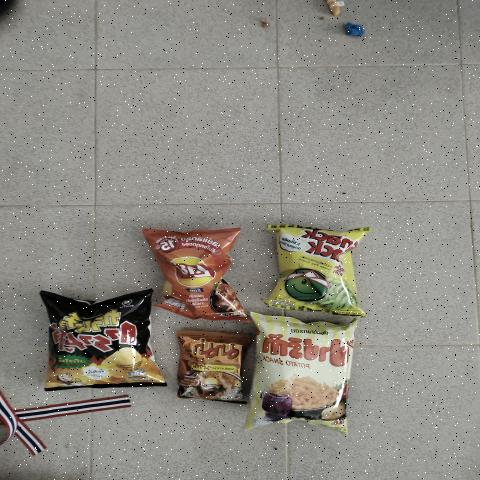karamujo: (53, 305, 151, 381)
mama: (192, 335, 232, 401)
paprika: (256, 332, 347, 419)
snack_jack: (271, 230, 359, 308)
